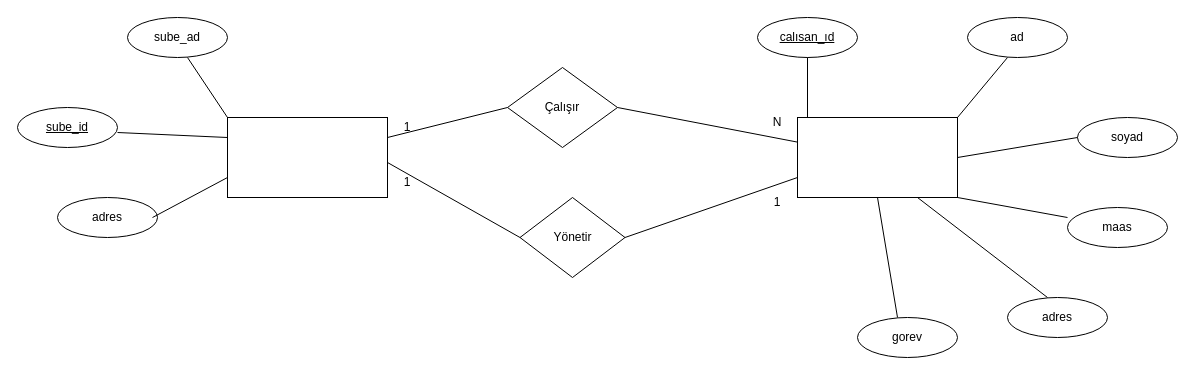
Image size: 1195x375. Some labels were removed from this diagram. The centre of each missing label's shape, as x and y in pixels:
"ÇALIŞAN" belongs at point (877, 157).
"ŞUBE" belongs at point (307, 157).
